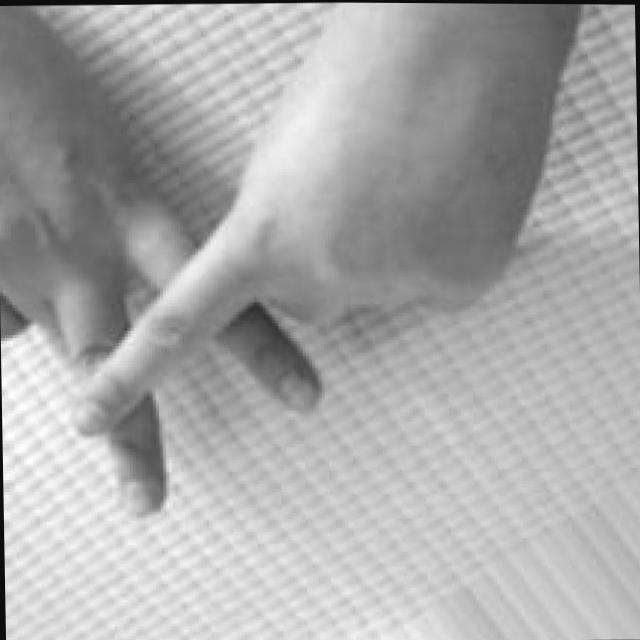A: (0, 0, 356, 521)
